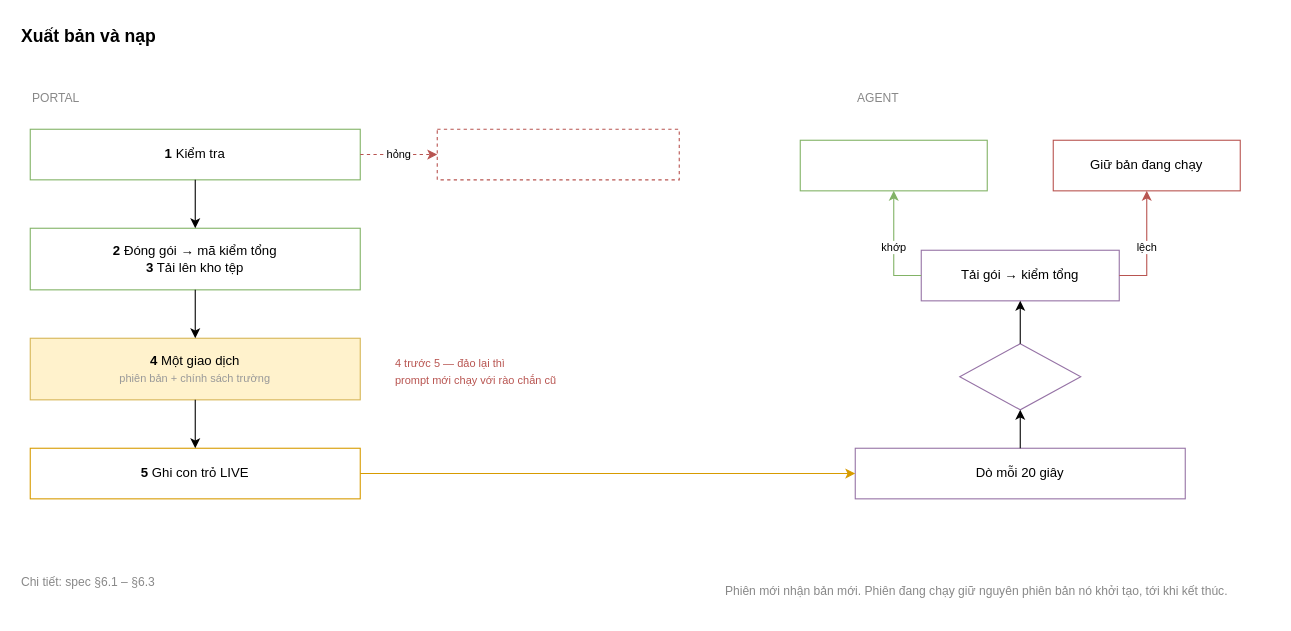
Some shapes in this 1291 by 631 pixel diagram are drawn without their labels. The shapes that lost their labels are listed below. From the top down, each one's centre as x and y in pixels, then its label:
point 557,154: Không tạo phiên bản
point 893,165: Nạp phiên bản mới
point 1020,376: Đổi?
